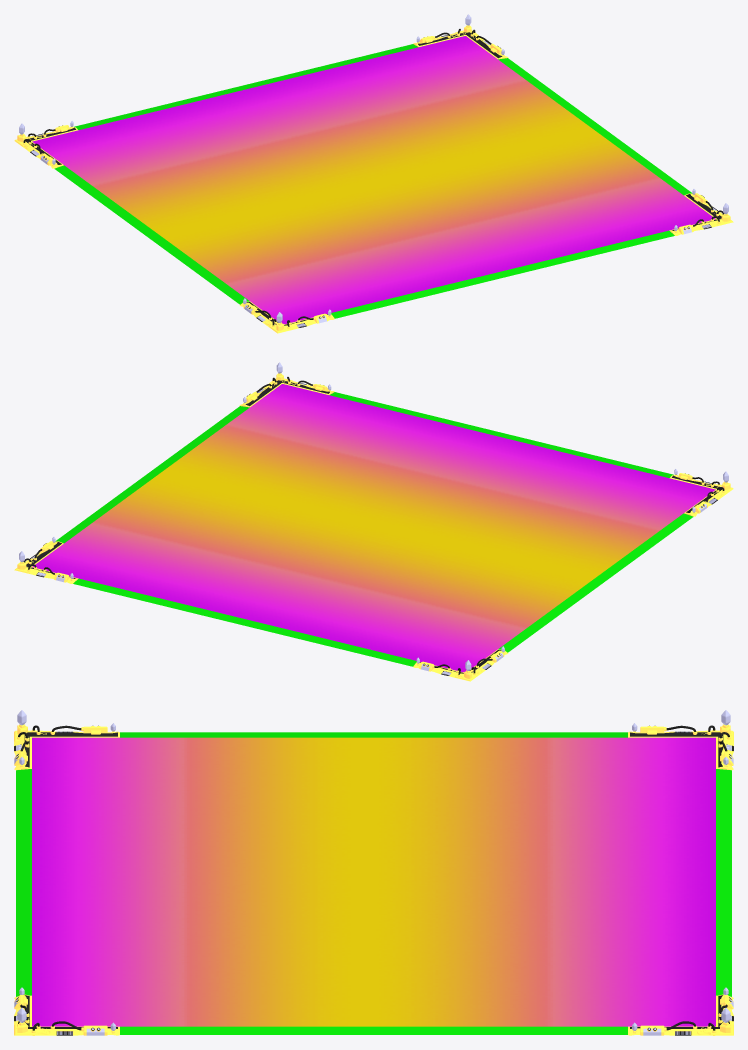
File: NFT_golden_16x16.fbx
3 renders of one model, top to bottom at view 1: azimuth 30°, elevation 25°; view 2: azimuth 150°, elevation 25°; view 3: azimuth 270°, elevation 25°, orthographic. The views are drawn at different scales.
Visible parts, largest first — view 1: _screen_low1, walkways; view 2: _screen_low1, walkways; view 3: _screen_low1, walkways, frame_main (×4).
Boxes of the visible parts, bbox=[...] form: _screen_low1: bbox=[32, 36, 715, 324]; walkways: bbox=[54, 44, 692, 318]; _screen_low1: bbox=[32, 384, 715, 672]; walkways: bbox=[55, 392, 693, 666]; _screen_low1: bbox=[32, 737, 715, 1026]; walkways: bbox=[16, 732, 731, 1034]; frame_main (×4): bbox=[14, 731, 733, 1035].
Size of the model in its own units: 630 by 25.22 by 630.
Materials: 5 (1 with a texture image).
